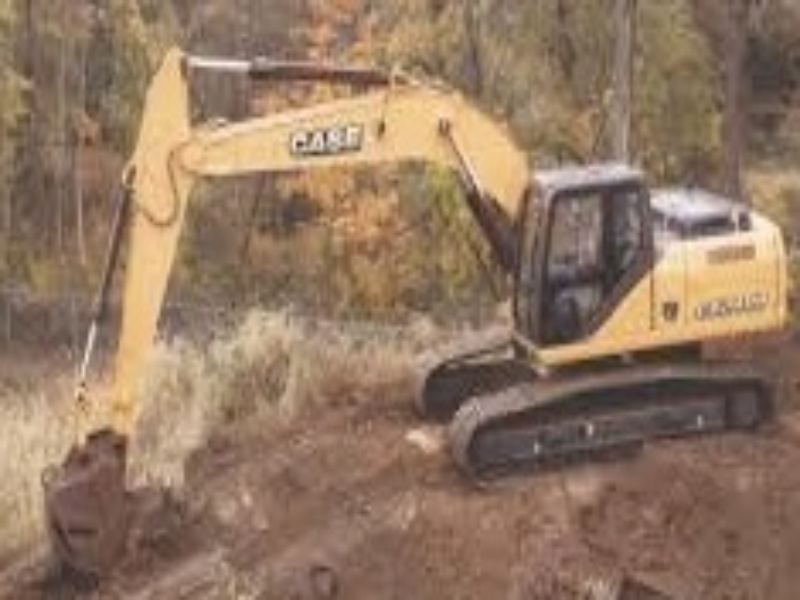wajueji: (376, 94, 800, 511)
